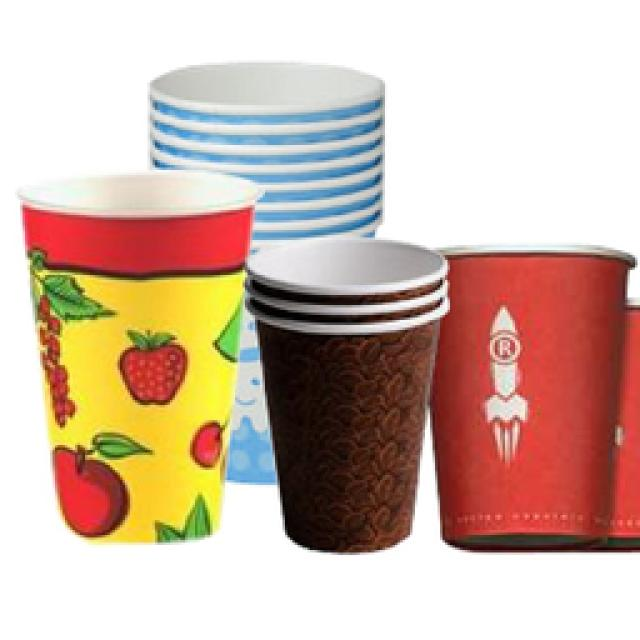paper_cups: (17, 170, 258, 552), (441, 245, 634, 551), (239, 296, 451, 554)
